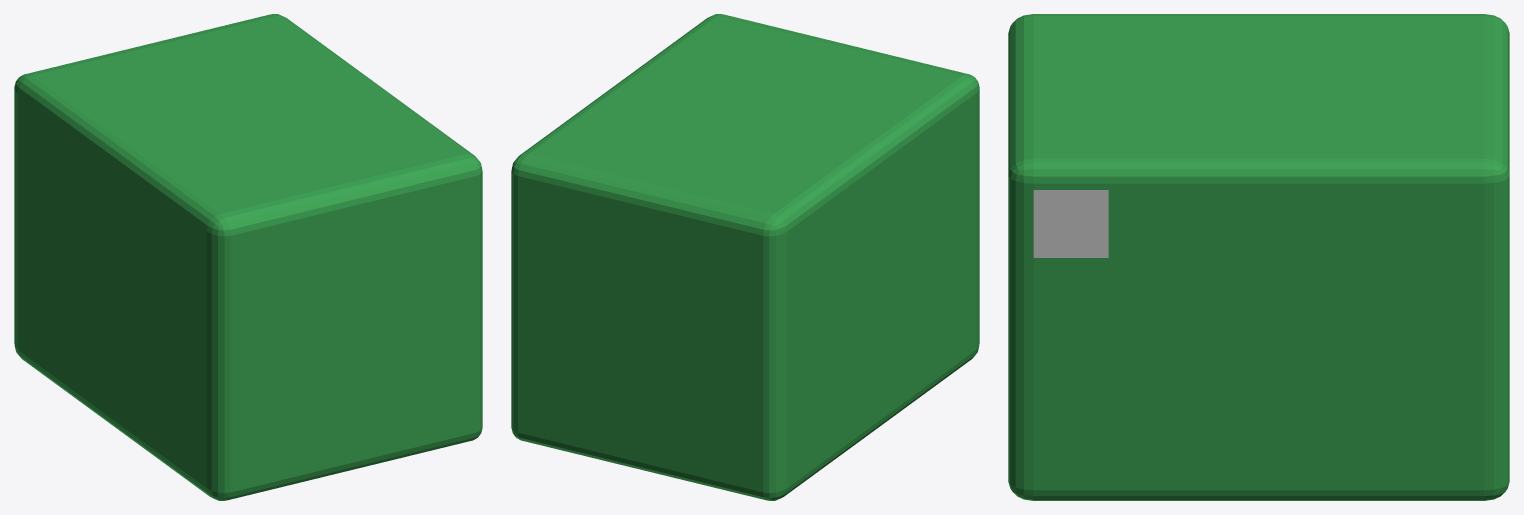
File: FState_Highlight.dae
3 views of the same model, side by side, from view 1: azimuth 30°, elevation 25°; view 2: azimuth 150°, elevation 25°; view 3: azimuth 270°, elevation 25° (orthographic). The views are drawn at different scales.
Visible parts, largest first — view 1: Cube; view 2: Cube; view 3: Cube, Plane.
Boxes of the visible parts, left/top/right/bottom form: Cube: left=14, top=14, right=482, bottom=500; Cube: left=511, top=14, right=979, bottom=500; Cube: left=1008, top=14, right=1509, bottom=500; Plane: left=1033, top=190, right=1108, bottom=257.
Bounding box in the file's own units: 1.51 × 2 × 1.5.
